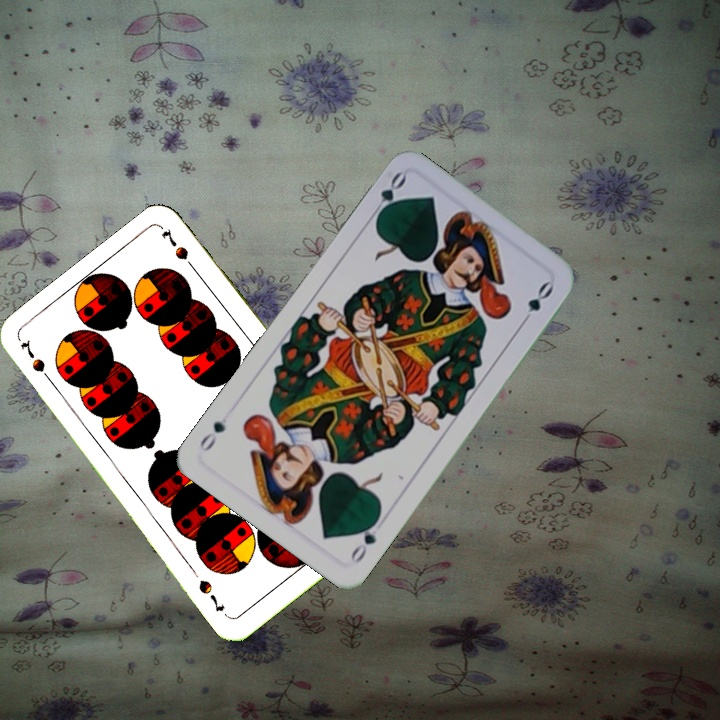GO: (366, 168, 410, 224), (346, 512, 382, 566)
S7: (16, 336, 57, 388)
